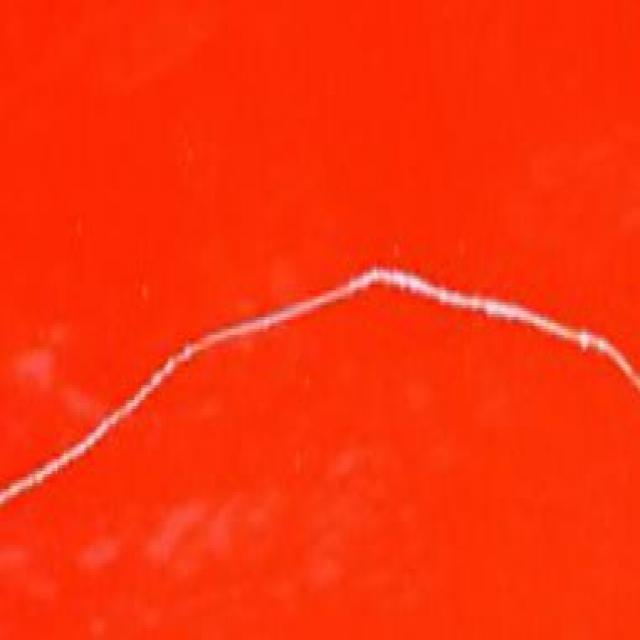scratch: (0, 260, 628, 524)
